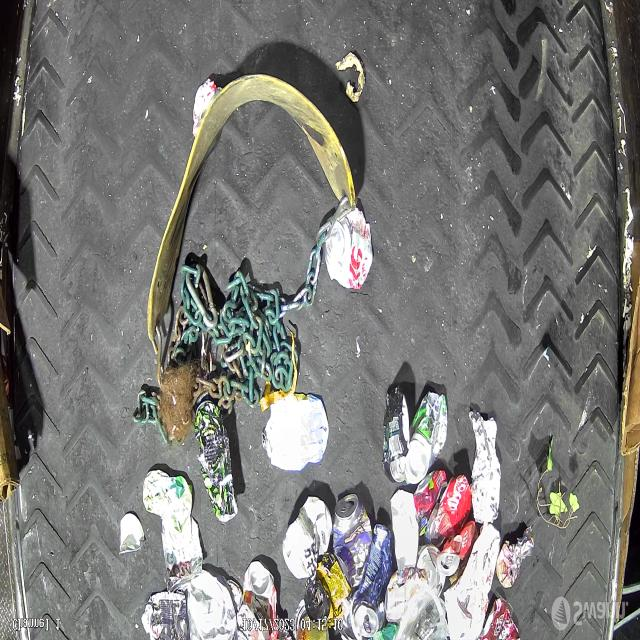can: (325, 196, 373, 290), (405, 392, 447, 484), (334, 494, 372, 587), (304, 555, 352, 626), (352, 563, 385, 638), (243, 563, 276, 606), (436, 536, 464, 576)
